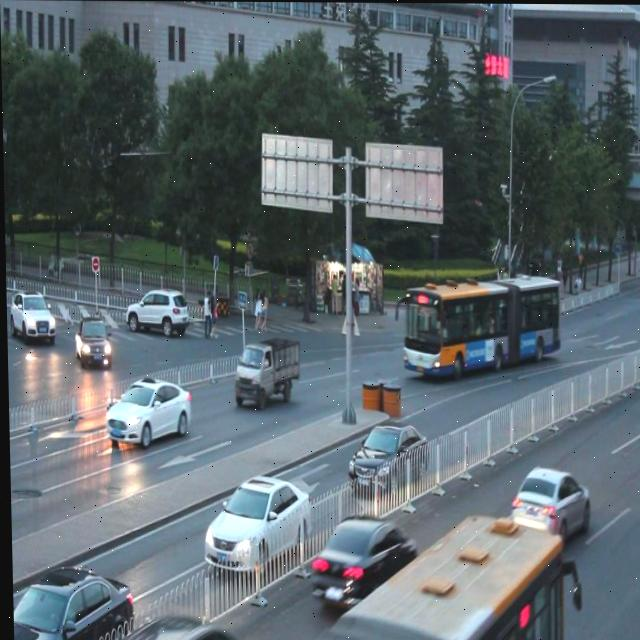bus: (231, 339, 300, 404)
car: (201, 477, 309, 571), (308, 512, 414, 605), (10, 565, 128, 640), (104, 376, 191, 446), (508, 461, 587, 536), (347, 422, 426, 492), (128, 609, 233, 640), (129, 289, 185, 336), (5, 288, 54, 341), (72, 312, 111, 371)
van: (303, 507, 562, 640), (402, 275, 561, 380)
